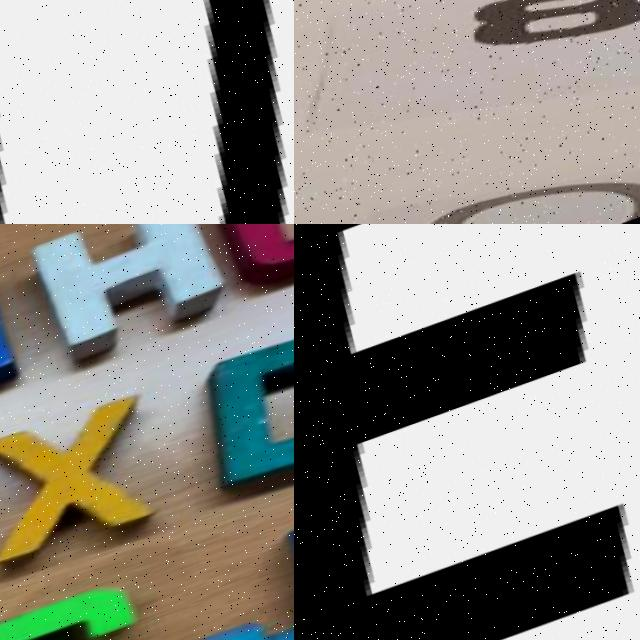0: (394, 111, 640, 224)
8: (430, 0, 640, 104)
C: (0, 577, 184, 640)
D: (170, 303, 294, 513)
E: (294, 224, 637, 640)
H: (18, 224, 245, 381)
J: (177, 505, 294, 640)
O: (194, 224, 294, 311)
U: (0, 0, 294, 224)
X: (0, 370, 204, 591)
